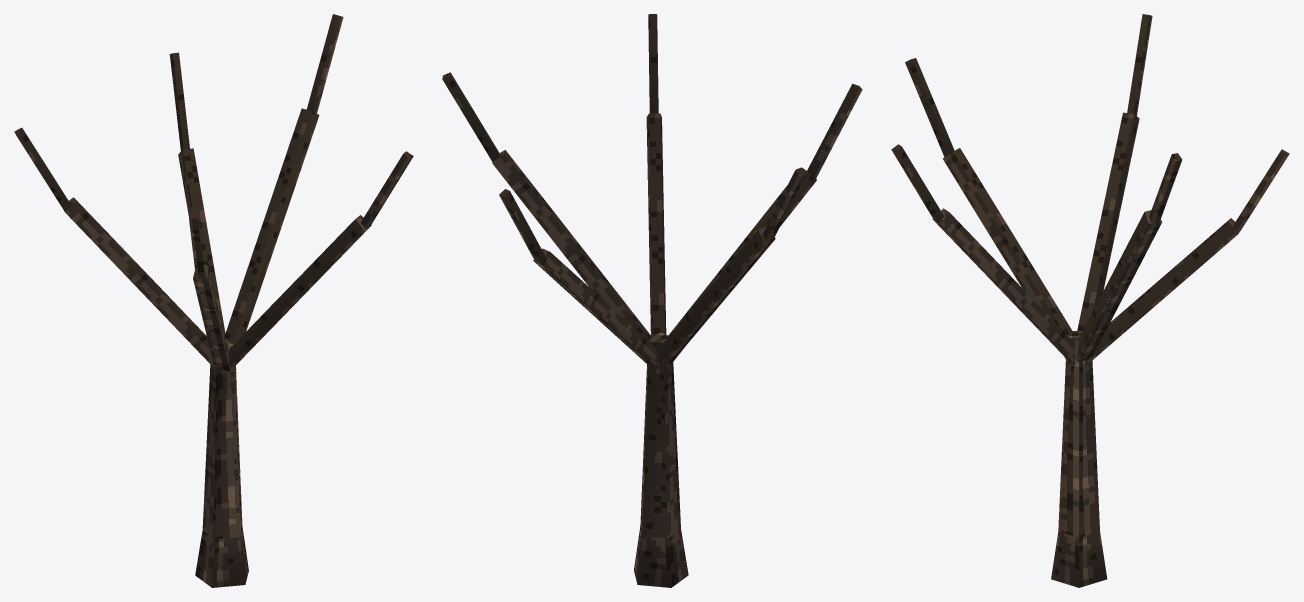
File: mnat.orchard__bare.glb
3 renders of one model, left to right at view 1: azimuth 30°, elevation 25°; view 2: azimuth 150°, elevation 25°; view 3: azimuth 270°, elevation 25°, orthographic. The views are drawn at different scales.
Parts seen in each view (by area): view 1: kit_trunk; view 2: kit_trunk; view 3: kit_trunk.
Boxes of the visible parts, box(x1,y1,x2,y2) form: kit_trunk: box(14, 14, 413, 587); kit_trunk: box(442, 14, 862, 587); kit_trunk: box(891, 14, 1289, 587).
Bounding box in the file's own units: 3.14 × 4.28 × 3.09.
1 material, 1 textured.
